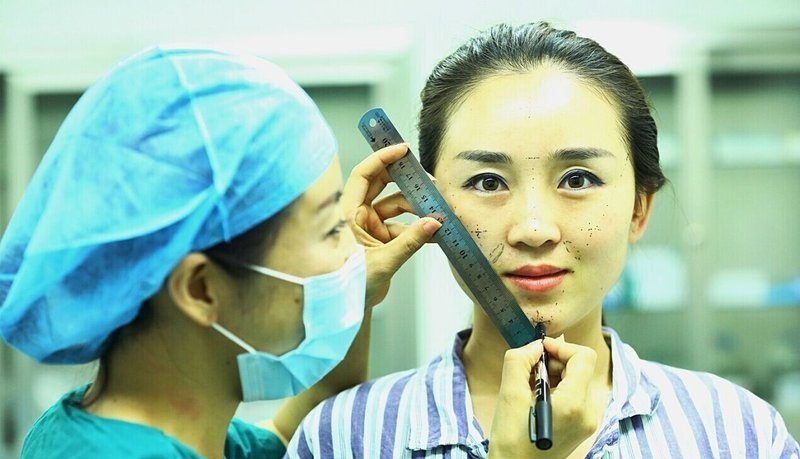face: (434, 84, 631, 335)
face_mask: (256, 149, 368, 397)
